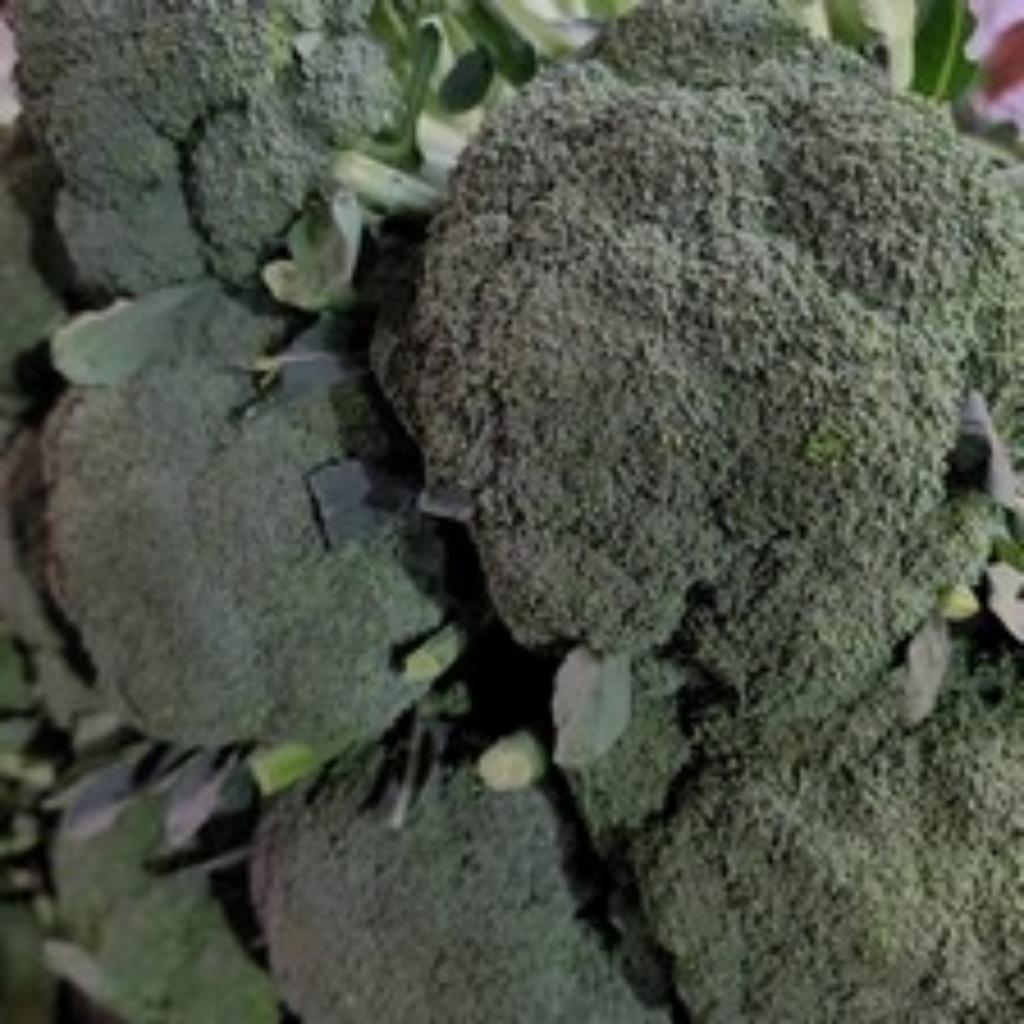Broccoli: (374, 4, 1018, 711), (374, 4, 1014, 713), (42, 286, 442, 745), (634, 622, 1024, 1024), (44, 356, 442, 745), (638, 636, 1024, 1024), (252, 748, 670, 1024), (252, 750, 670, 1024)
